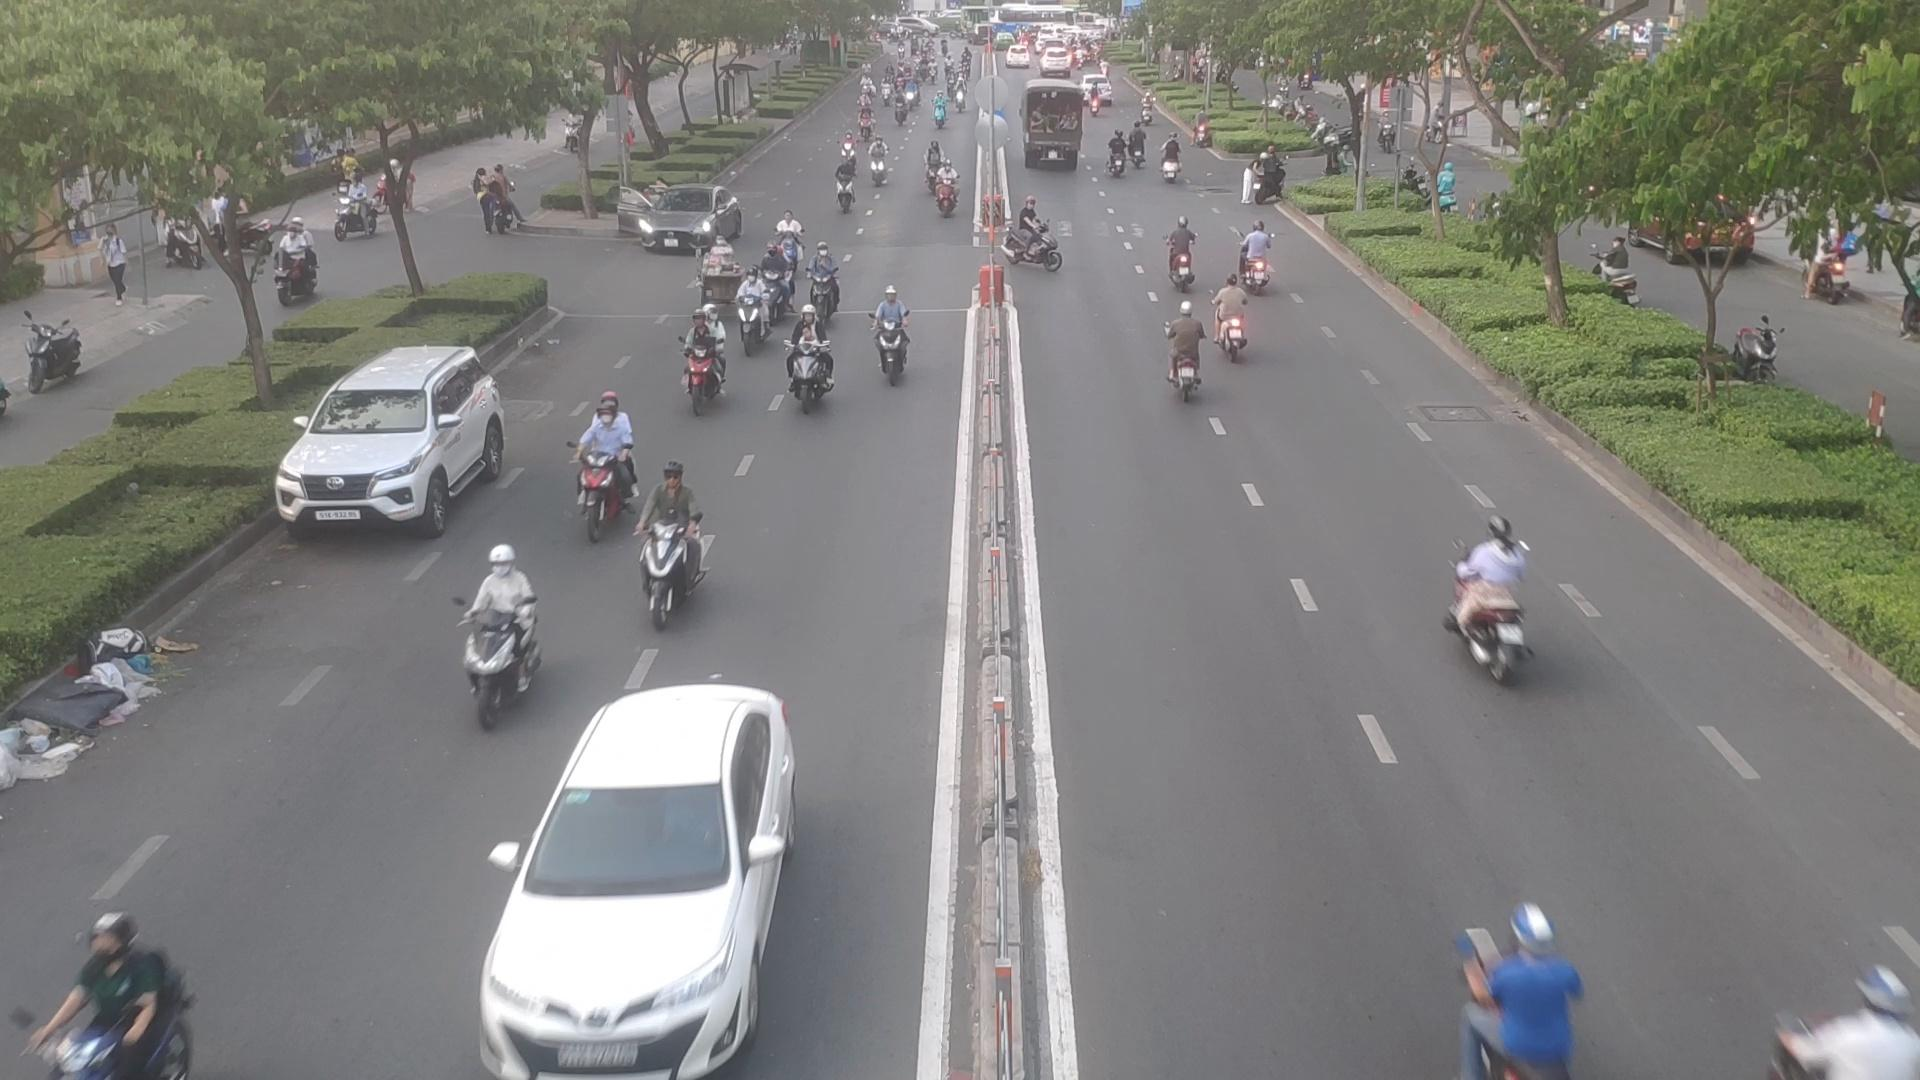car: (276, 345, 513, 533), (618, 189, 741, 258)
motorbike: (1443, 884, 1594, 1080), (30, 910, 200, 1080), (1441, 516, 1544, 674), (459, 541, 545, 717), (633, 444, 711, 618), (563, 392, 636, 531), (670, 294, 731, 419), (1004, 194, 1079, 274), (777, 334, 837, 414), (872, 286, 916, 386), (1160, 297, 1201, 401), (1156, 214, 1204, 290), (727, 270, 770, 347), (1215, 277, 1251, 367), (1246, 144, 1283, 211), (1236, 225, 1271, 291), (814, 243, 841, 320), (831, 157, 861, 222), (934, 160, 956, 220), (1160, 133, 1184, 185), (870, 137, 893, 185), (1109, 127, 1131, 174)
